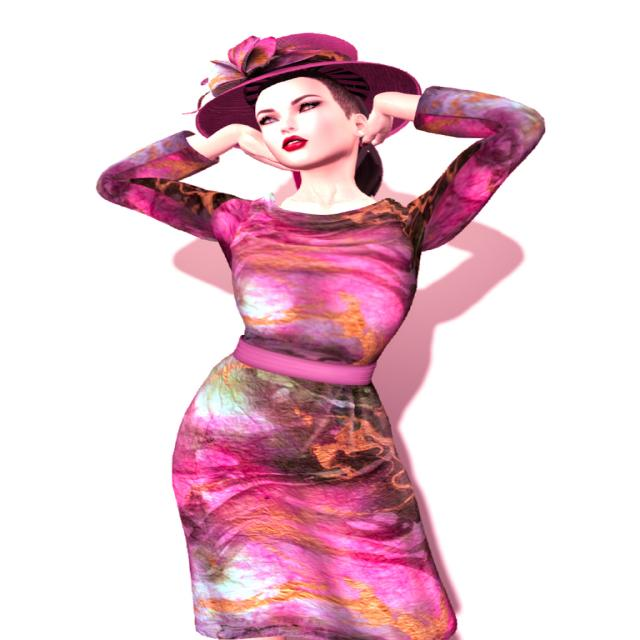Hat: (192, 30, 422, 148)
